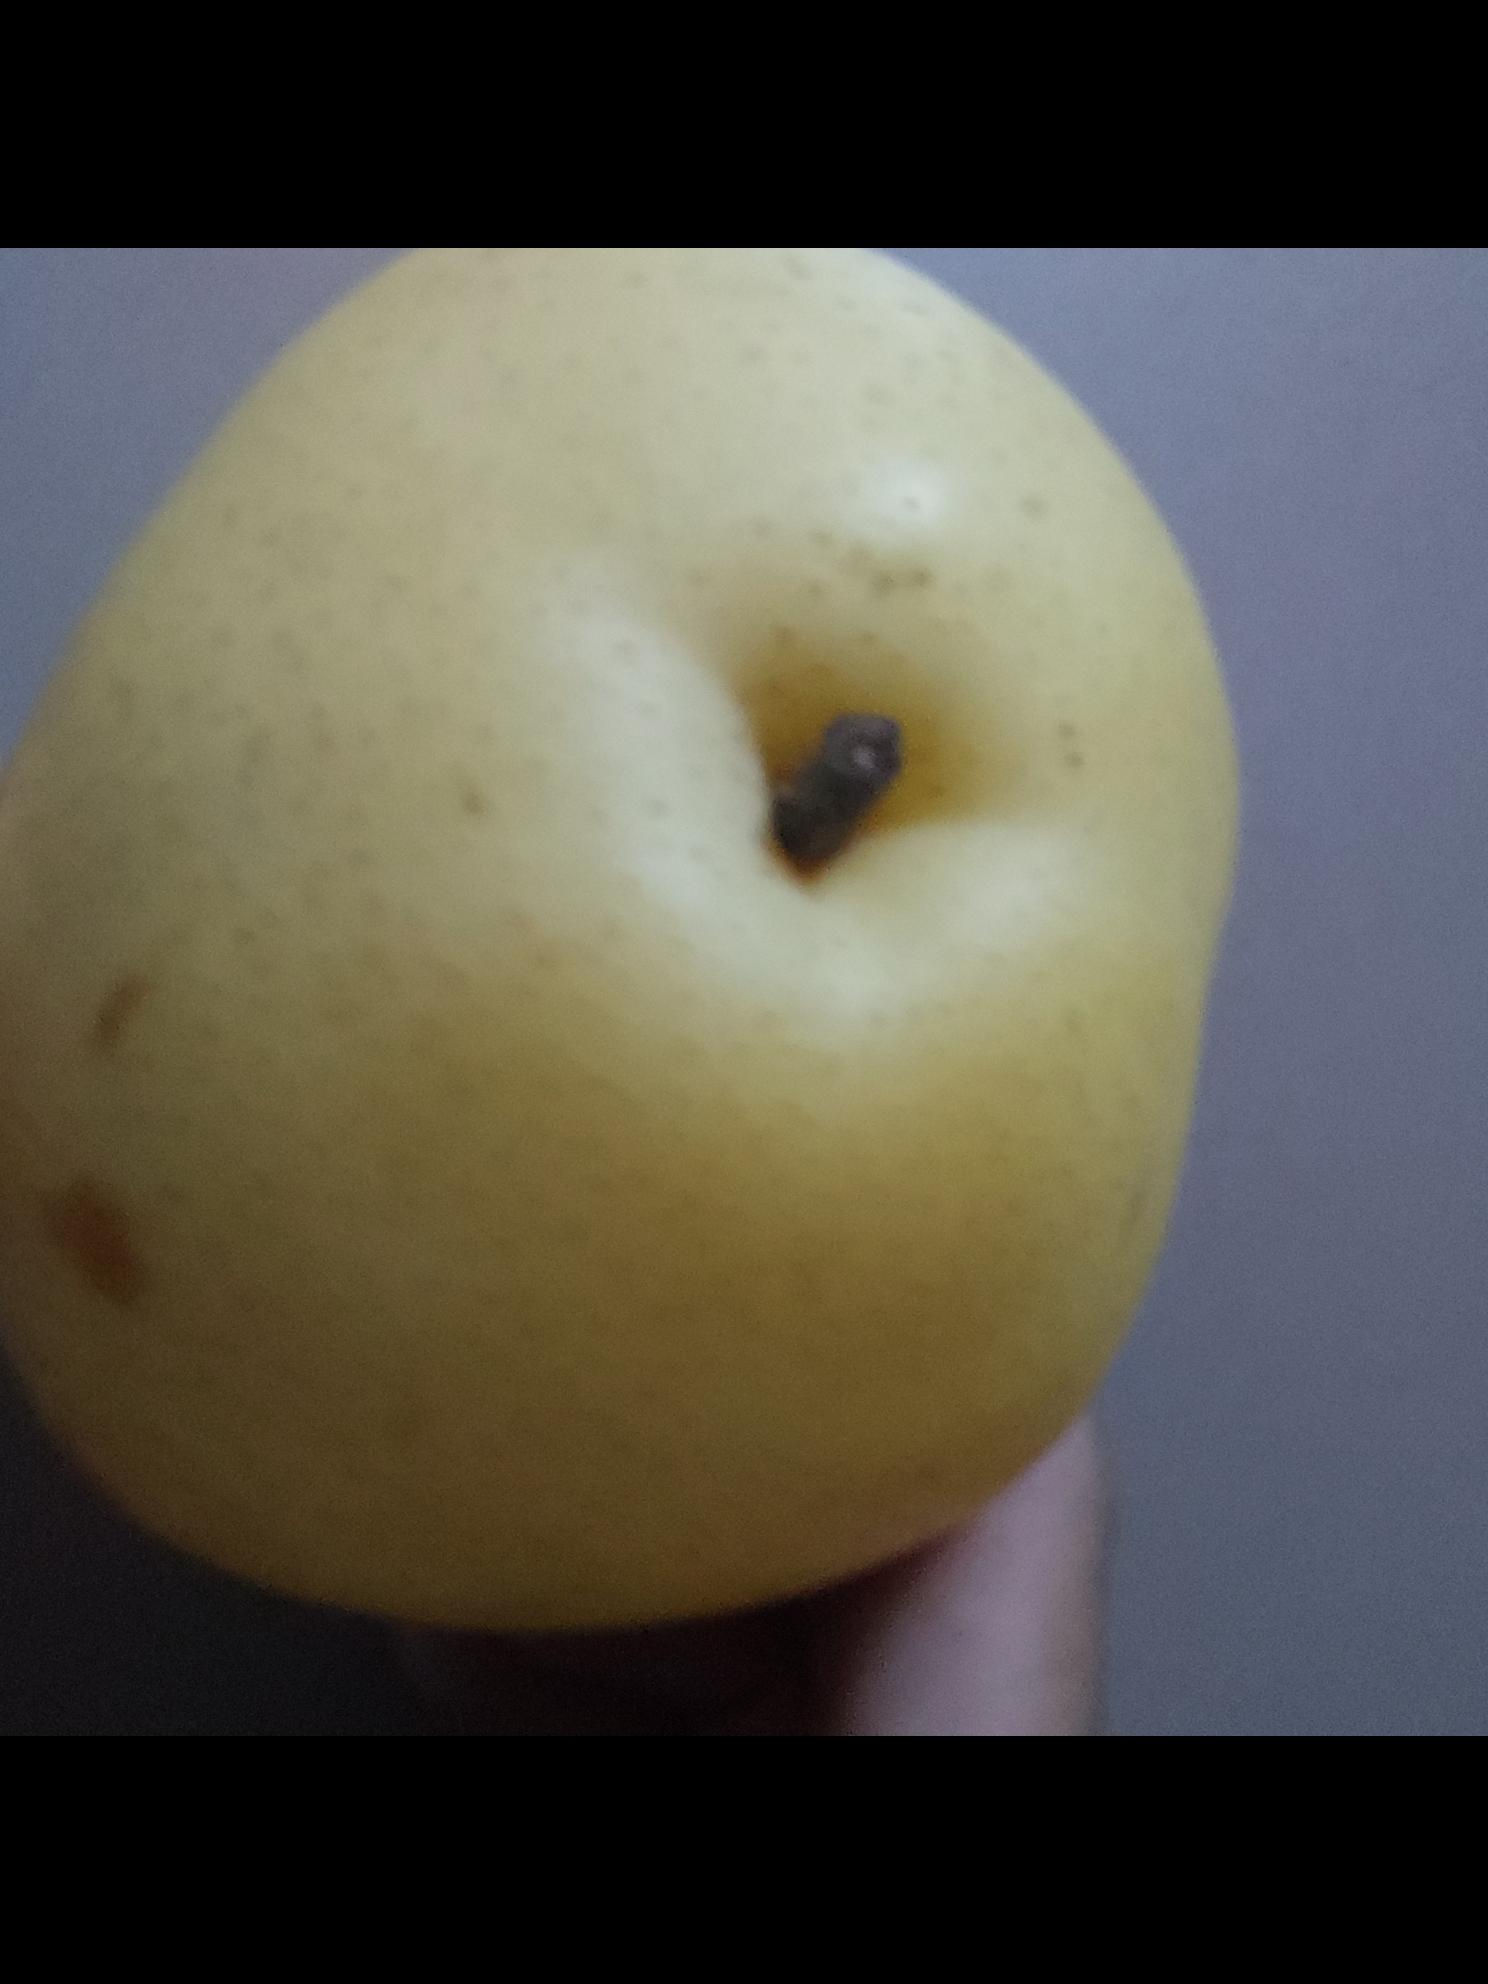Good Pear: (0, 248, 1235, 1634)
